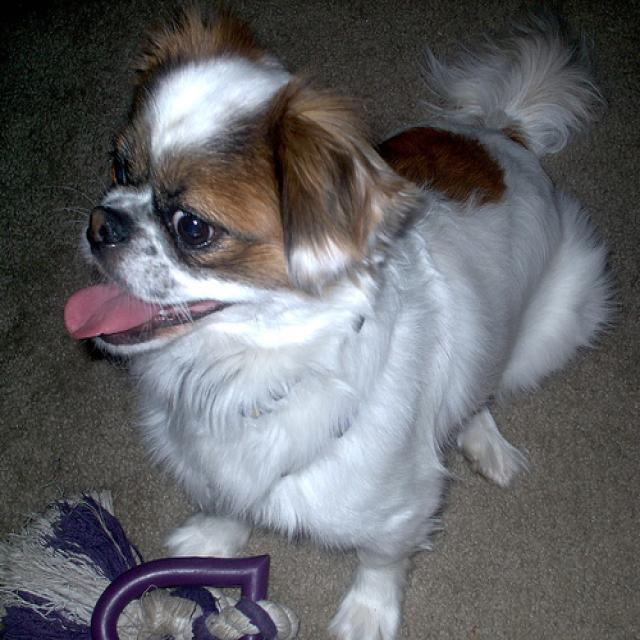dog-japanese_chin: (46, 1, 625, 637)
